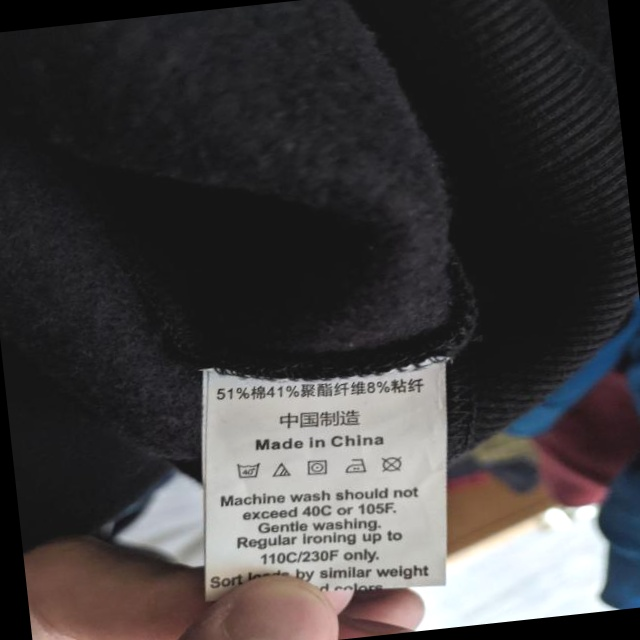40C: (232, 456, 263, 484)
DN_dry_clean: (381, 453, 407, 476)
iron_medium: (345, 453, 370, 477)
non_chlorine_bleach: (271, 458, 292, 480)
tumble_dry_low: (305, 456, 331, 477)
